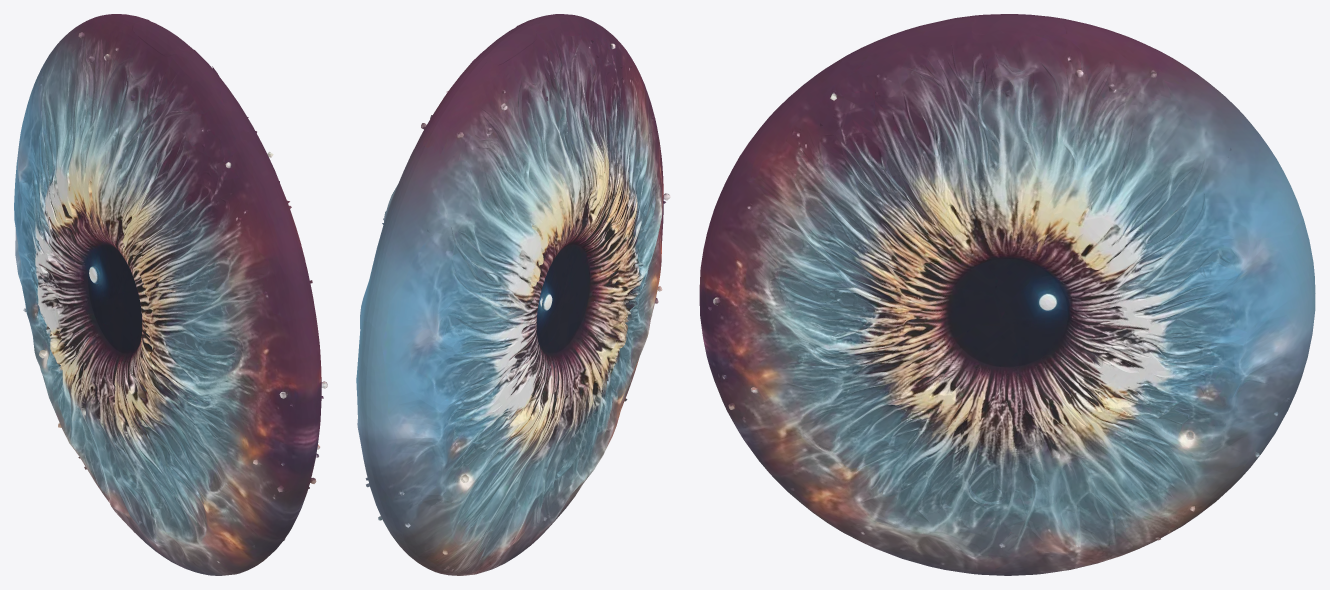
File: eye.glb
The picture shows the model from 3 angles, left to right: view 1: azimuth 30°, elevation 25°; view 2: azimuth 150°, elevation 25°; view 3: azimuth 270°, elevation 25°; orthographic projection. The views are drawn at different scales.
Visible parts, largest first — view 1: Object_2; view 2: Object_2; view 3: Object_2.
Part boxes in pixels (x1,y1,x2,y2): Object_2: (14,14,327,575); Object_2: (356,14,670,575); Object_2: (699,14,1315,575).
Bounding box in the file's own units: 0.2631 × 0.9803 × 0.9787.
1 material, 1 textured.
